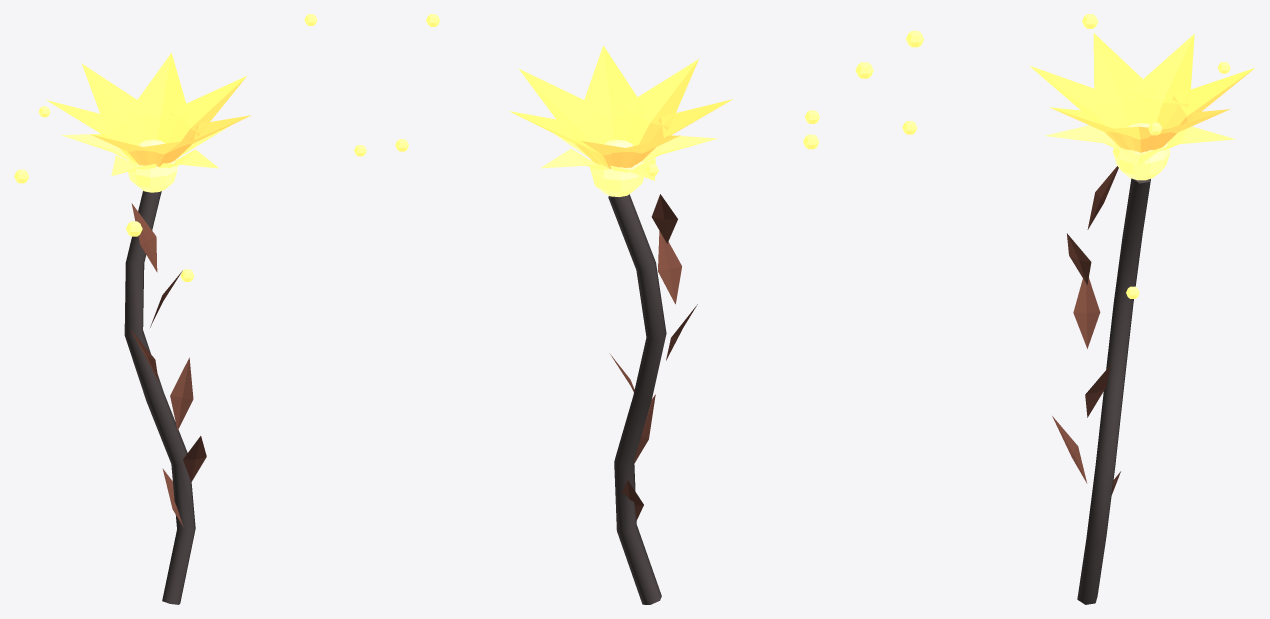
File: emberbloom.glb
3 renders of one model, left to right at view 1: azimuth 30°, elevation 25°; view 2: azimuth 150°, elevation 25°; view 3: azimuth 270°, elevation 25°, orthographic. The views are drawn at different scales.
Parts seen in each view (by area): view 1: EB_stem, EB_petal6, EB_petal0, EB_petal5, Sphere, EB_leaf2, EB_petal1, EB_petal3, EB_petal4, EB_leaf5, EB_petal2, EB_leaf1 (+2 smaller); view 2: EB_stem, EB_petal4, EB_petal3, EB_petal5, Sphere, EB_leaf4, EB_petal2, EB_petal6, EB_petal0, EB_leaf5, EB_petal1, EB_petal_in1 (+1 smaller); view 3: EB_stem, EB_petal2, EB_petal1, EB_petal3, EB_petal0, Sphere, EB_leaf3, EB_petal5, EB_petal_in4, EB_petal_in2, EB_petal4, EB_petal6 (+3 smaller).
Boxes of the visible parts, x1=… form: EB_stem: x1=124, y1=191, x2=195, y2=604; EB_petal6: x1=128, y1=53, x2=189, y2=143; EB_petal0: x1=81, y1=63, x2=151, y2=145; EB_petal5: x1=168, y1=76, x2=246, y2=143; Sphere: x1=128, y1=139, x2=178, y2=192; EB_leaf2: x1=170, y1=357, x2=193, y2=430; EB_petal1: x1=46, y1=100, x2=135, y2=162; EB_petal3: x1=134, y1=141, x2=190, y2=166; EB_petal4: x1=165, y1=115, x2=251, y2=163; EB_leaf5: x1=131, y1=203, x2=157, y2=272; EB_petal2: x1=90, y1=134, x2=156, y2=165; EB_leaf1: x1=183, y1=436, x2=206, y2=481; EB_stem: x1=608, y1=194, x2=666, y2=604; EB_petal4: x1=579, y1=45, x2=646, y2=144; EB_petal3: x1=621, y1=59, x2=698, y2=145; EB_petal5: x1=519, y1=69, x2=602, y2=144; Sphere: x1=590, y1=139, x2=643, y2=197; EB_leaf4: x1=658, y1=231, x2=681, y2=304; EB_petal2: x1=636, y1=99, x2=733, y2=164; EB_petal6: x1=509, y1=111, x2=603, y2=165; EB_petal0: x1=575, y1=140, x2=635, y2=168; EB_leaf5: x1=651, y1=194, x2=677, y2=243; EB_petal1: x1=611, y1=135, x2=680, y2=167; EB_petal_in1: x1=641, y1=135, x2=718, y2=164; EB_stem: x1=1077, y1=178, x2=1150, y2=604; EB_petal2: x1=1093, y1=33, x2=1155, y2=127; EB_petal1: x1=1129, y1=34, x2=1194, y2=128; EB_petal3: x1=1029, y1=65, x2=1118, y2=128; EB_petal0: x1=1164, y1=68, x2=1254, y2=145; Sphere: x1=1112, y1=123, x2=1170, y2=180; EB_leaf3: x1=1073, y1=277, x2=1100, y2=348; EB_petal5: x1=1109, y1=126, x2=1172, y2=152; EB_petal_in4: x1=1158, y1=126, x2=1235, y2=151; EB_petal_in2: x1=1045, y1=125, x2=1118, y2=149; EB_petal4: x1=1049, y1=107, x2=1135, y2=151; EB_petal6: x1=1146, y1=109, x2=1230, y2=151.
Bounding box in the file's own units: 0.5104 × 0.6951 × 0.3918.
